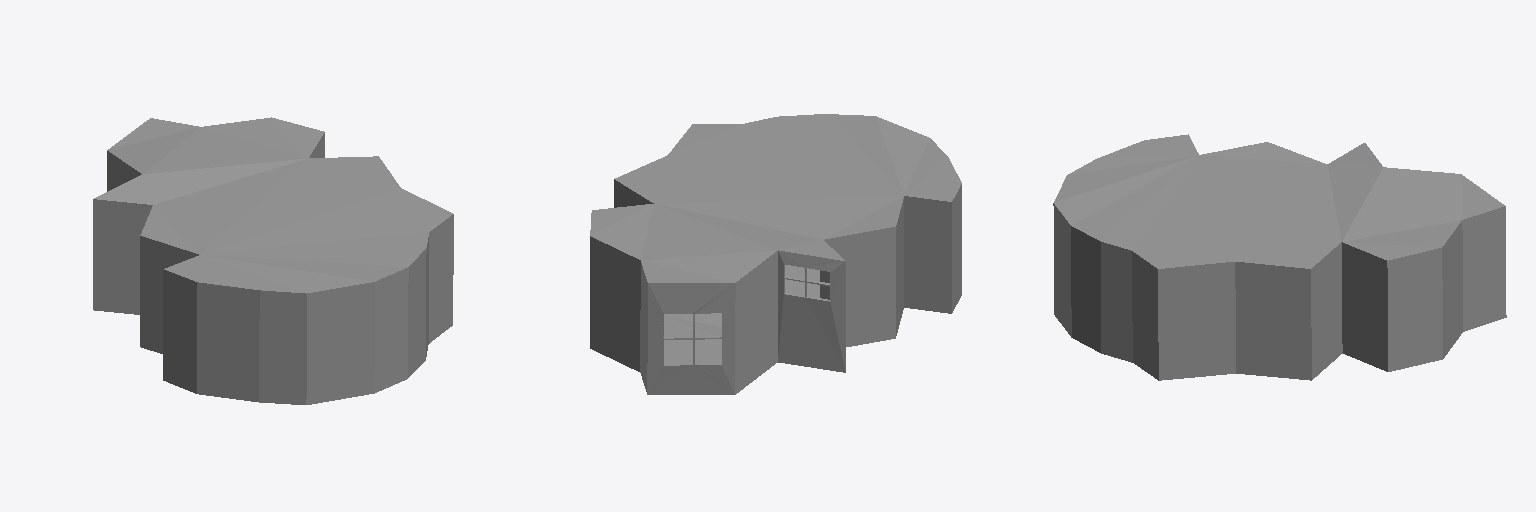
The model's file is photoshoptest.obj.
3 views of the same model, side by side, from view 1: azimuth 30°, elevation 25°; view 2: azimuth 150°, elevation 25°; view 3: azimuth 270°, elevation 25° (orthographic).
Visible parts, largest first — view 1: room; view 2: room; view 3: room.
Boxes of the visible parts, x1,y1,x2,y2 form: room: [93, 117, 453, 404]; room: [590, 114, 961, 394]; room: [1053, 134, 1506, 380].
Size of the model in its own units: 7.24 by 2.93 by 10.26.